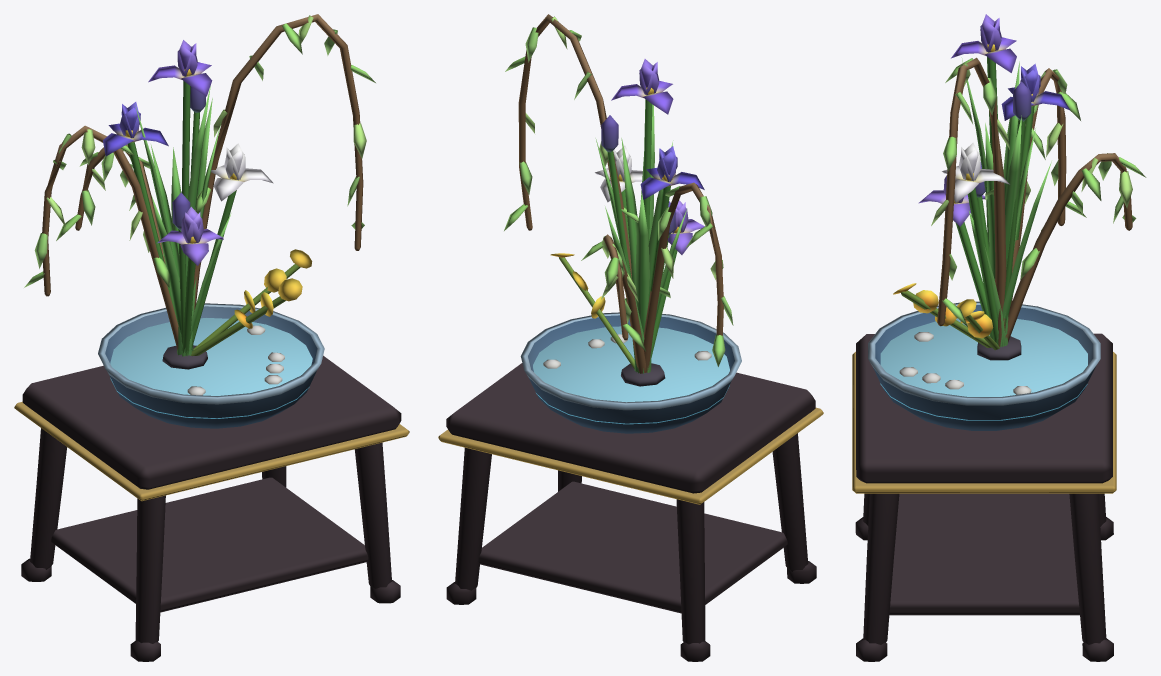
File: furn-ikebana.glb
3 views of the same model, side by side, from view 1: azimuth 30°, elevation 25°; view 2: azimuth 150°, elevation 25°; view 3: azimuth 270°, elevation 25° (orthographic). The views are drawn at different scales.
Visible parts, largest first — view 1: furn; view 2: furn; view 3: furn.
Part boxes in pixels (<box>): furn: <box>14,14,409,661</box>; furn: <box>438,14,823,661</box>; furn: <box>852,14,1146,661</box>.
Bounding box in the file's own units: 0.4544 × 0.8535 × 0.39.
